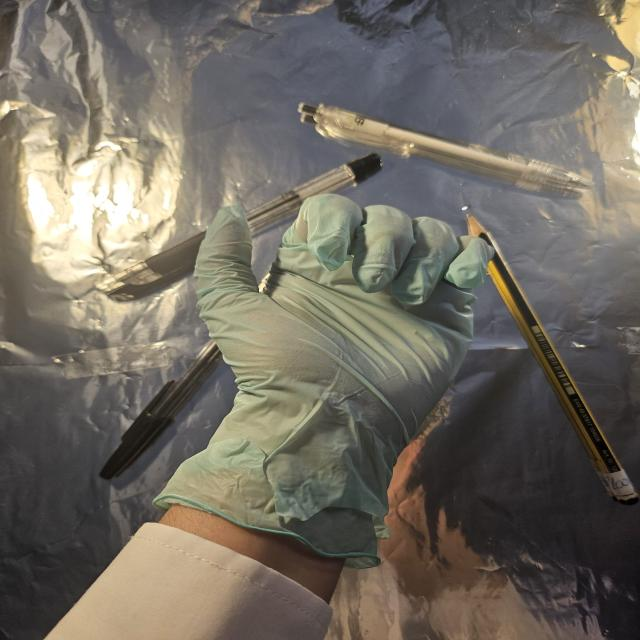gloves_damaged: (158, 191, 496, 571)
